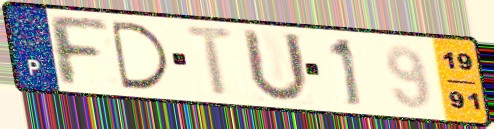1: (326, 38, 365, 109)
9: (383, 42, 433, 111)
D: (107, 18, 174, 92)
F: (43, 12, 112, 89)
T: (182, 22, 241, 99)
U: (239, 26, 312, 105)
